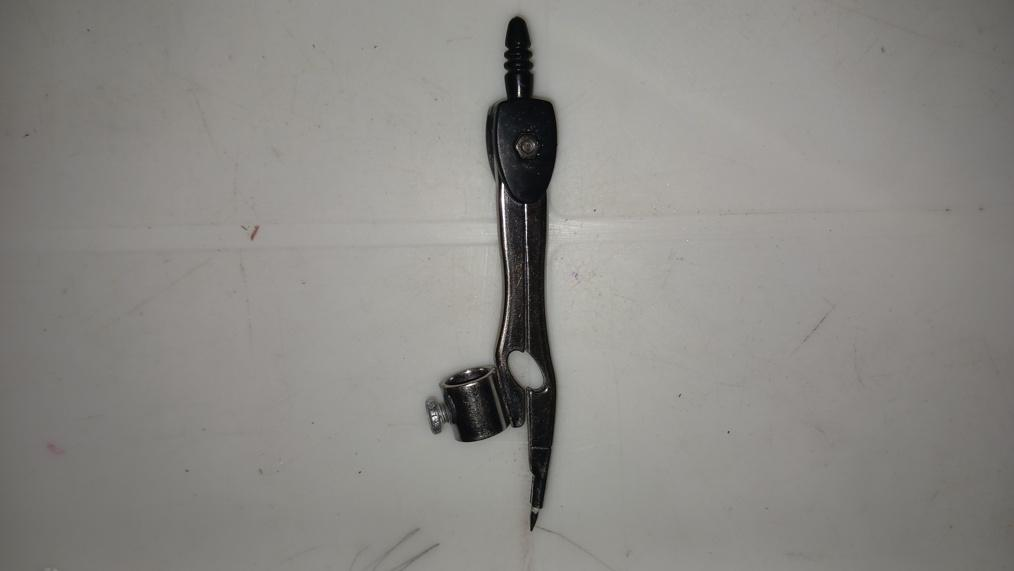Compass: (427, 14, 562, 534)
